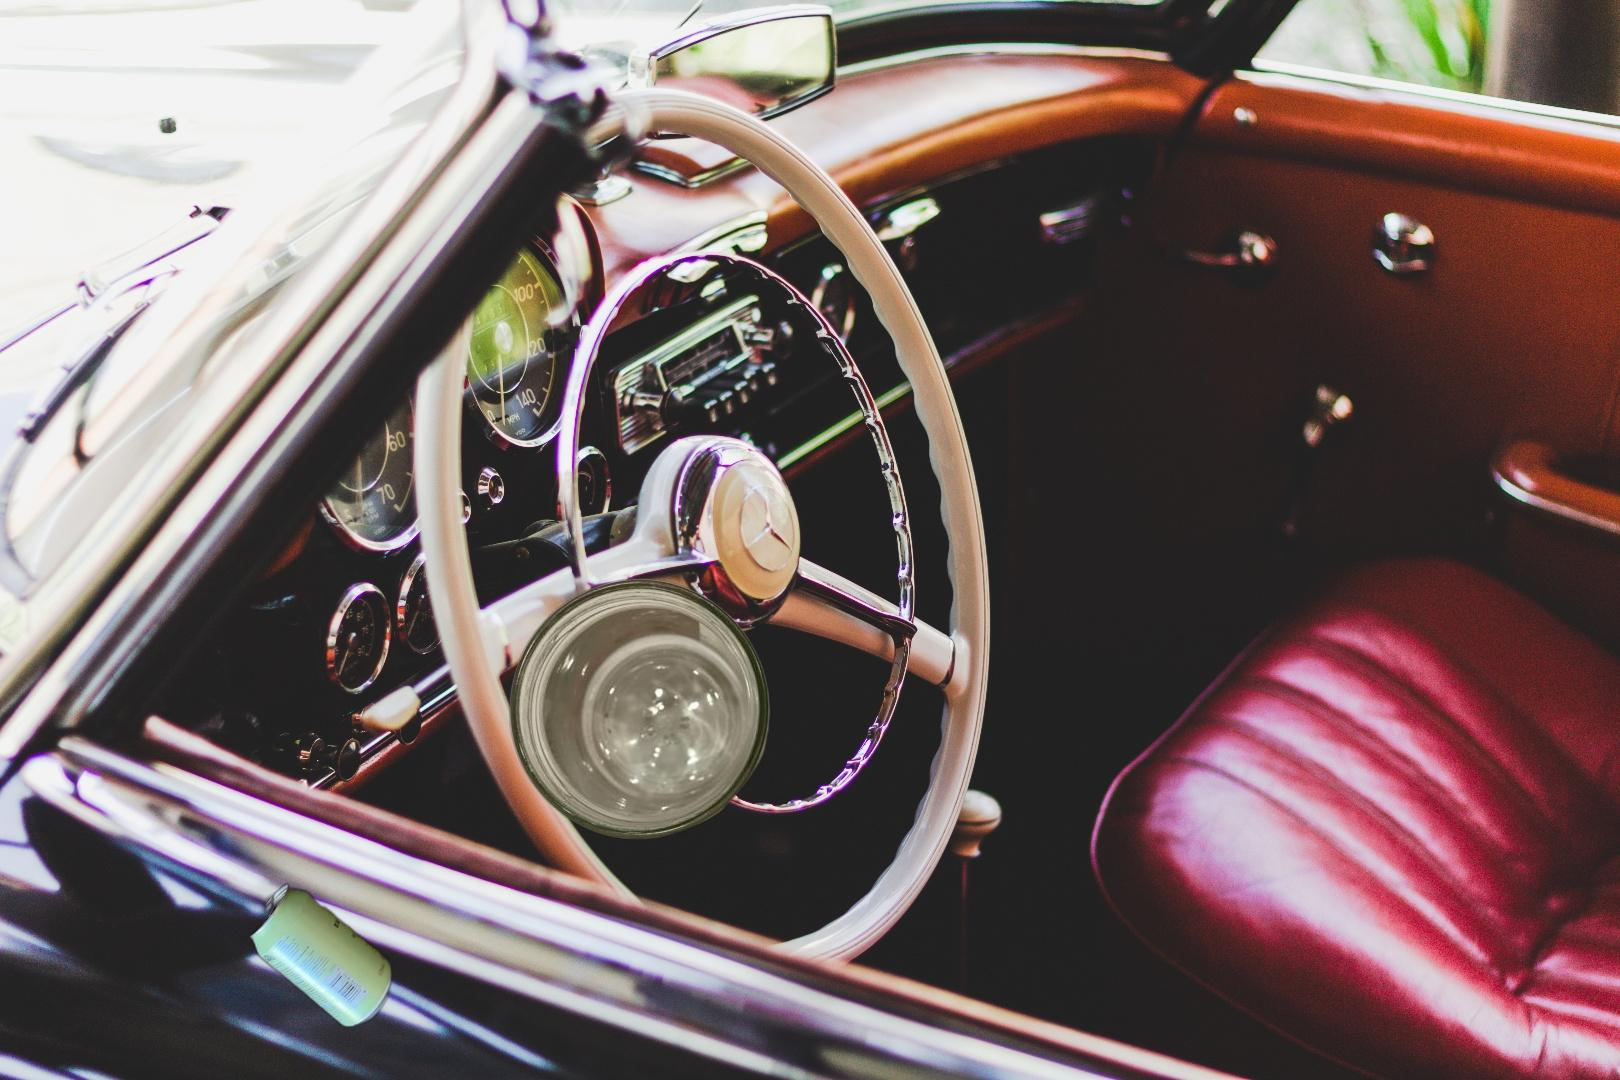glass: (506, 576, 774, 843)
metal-cans: (245, 879, 397, 1034)
